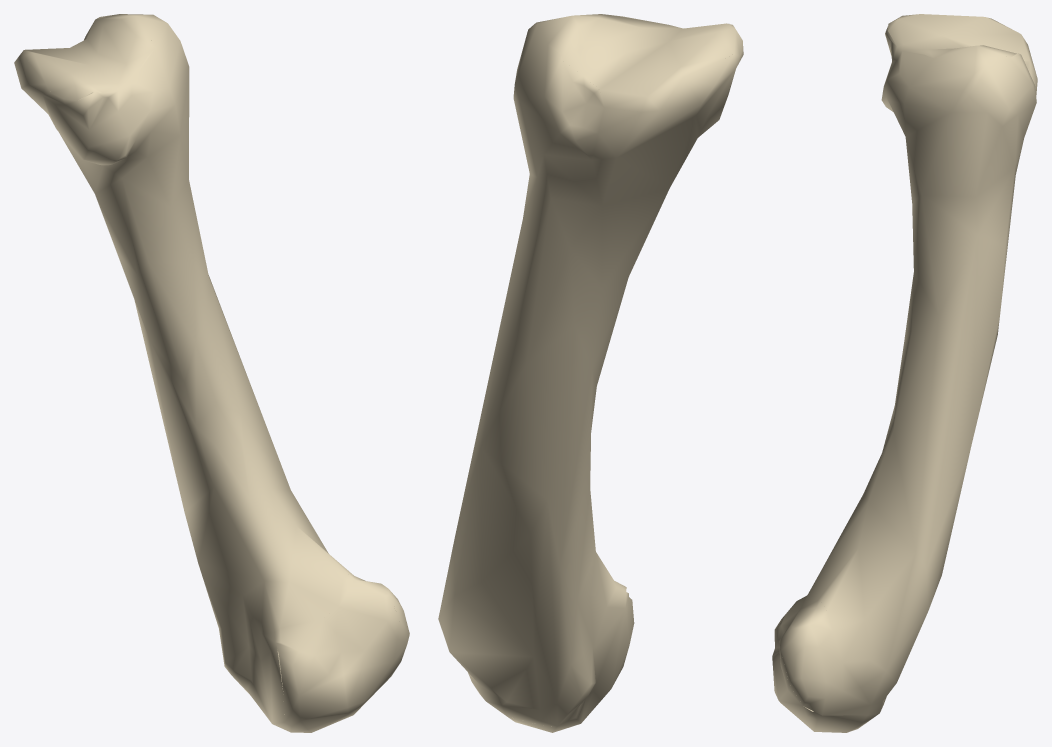
The model's file is esqueleto-second-metacarpal-bone-l.glb.
3 renders of one model, left to right at view 1: azimuth 30°, elevation 25°; view 2: azimuth 150°, elevation 25°; view 3: azimuth 270°, elevation 25°, orthographic. The views are drawn at different scales.
Visible parts, largest first — view 1: Second metacarpal bone.l; view 2: Second metacarpal bone.l; view 3: Second metacarpal bone.l.
Part boxes in pixels (box(x1,y1,x2,y2)): Second metacarpal bone.l: box(14, 14, 409, 732); Second metacarpal bone.l: box(438, 14, 743, 732); Second metacarpal bone.l: box(772, 14, 1037, 732).
Bounding box in the file's own units: 0.0321 × 0.0705 × 0.0266.
